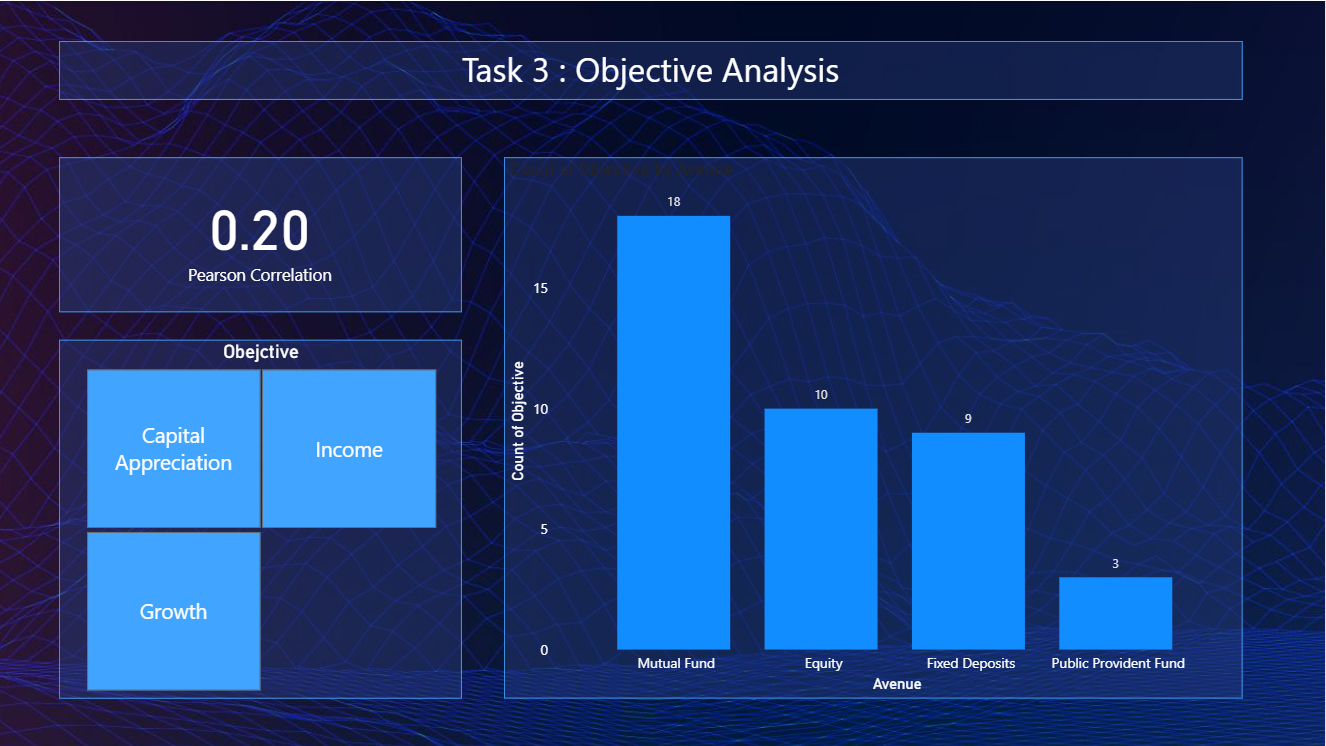

This screenshot's page, from the dashboard's own definition file:
{"tool":"powerbi","page":{"name":"Task 3","canvas":[1280,720],"ordinal":2},"visuals":[{"type":"card","fields":{"Values":["Data_set 2.Pearson Correlation"]},"box":[57.9,150.8,388.5,149.6],"z":0},{"type":"clusteredColumnChart","fields":{"Category":["Data_set 2.Avenue"],"Y":["CountNonNull(Data_set 2.Objective)"]},"box":[487.4,150.8,713,522.4],"z":1000},{"type":"slicer","title":"Obejctive","fields":{"Values":["Data_set 2.Objective"]},"box":[57.9,326.9,388.5,346.2],"z":2000},{"type":"textbox","box":[57.9,38.6,1142.5,56.7],"z":3000}]}

Visuals, with their boxes in screenshot pixels (x1, y1, x2, y2), scaled from the page's 1280x720 canvas onto the 1326x746 screenshot:
card - Data_set 2.Pearson Correlation: bbox=[60, 156, 462, 311]
clusteredColumnChart - Data_set 2.Avenue x CountNonNull(Data_set 2.Objective): bbox=[505, 156, 1244, 698]
"Obejctive" slicer: bbox=[60, 339, 462, 697]
textbox: bbox=[60, 40, 1244, 99]
